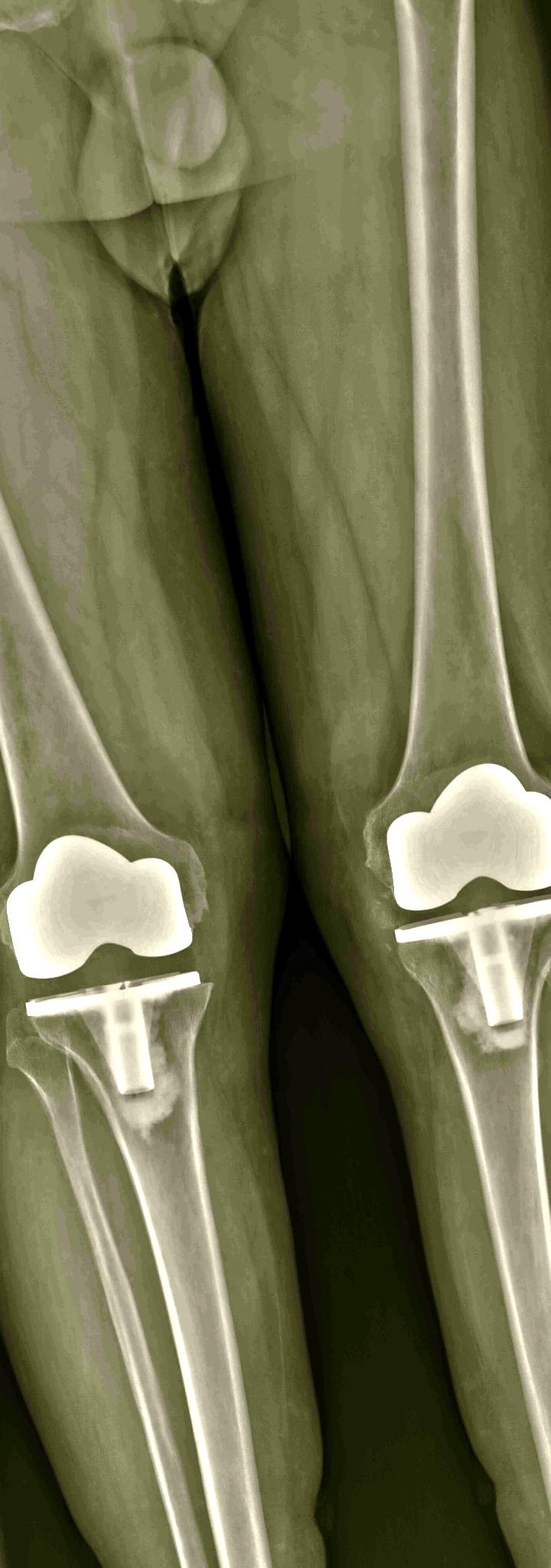Leg Fibula: (16, 1046, 206, 1568)
Leg Tibia: (28, 974, 272, 1568), (397, 898, 551, 1506)
femur: (366, 0, 551, 913), (0, 502, 205, 984)
